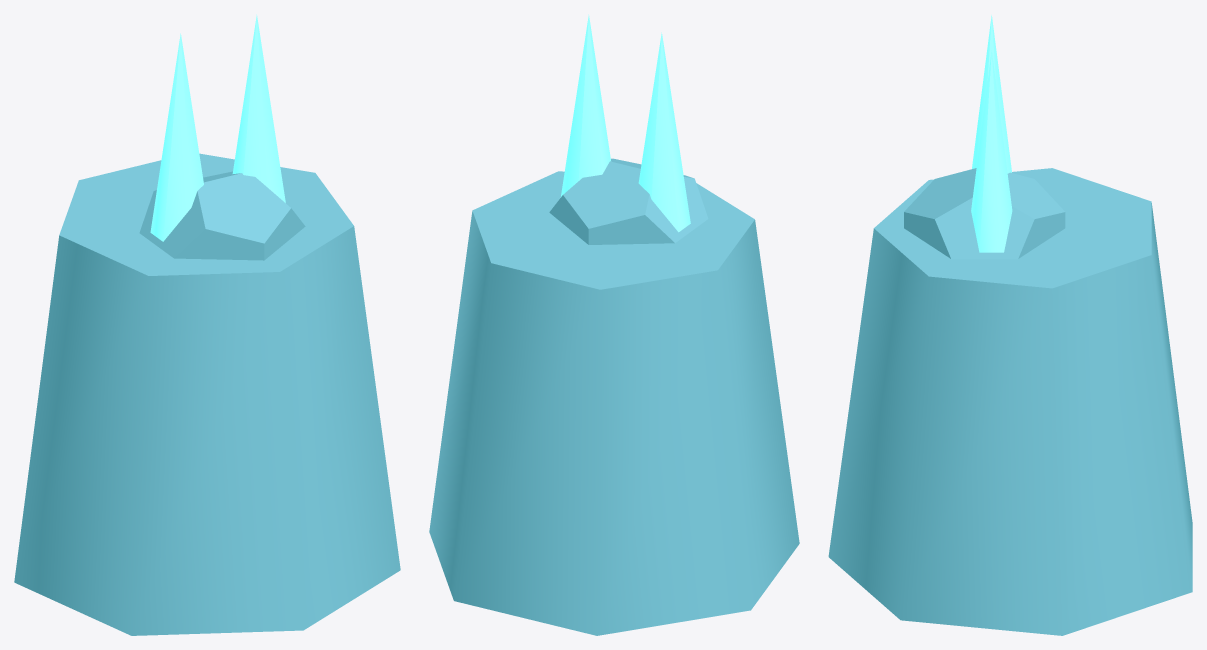
The model's file is kui_spirit.glb.
3 views of the same model, side by side, from view 1: azimuth 30°, elevation 25°; view 2: azimuth 150°, elevation 25°; view 3: azimuth 270°, elevation 25° (orthographic). The views are drawn at different scales.
Visible parts, largest first — view 1: body, head, horn_r, horn_l; view 2: body, head, horn_r, horn_l; view 3: body, head, horn_l, horn_r.
Boxes of the visible parts, x1,y1,x2,y2 form: body: [14, 153, 400, 635]; head: [139, 171, 305, 260]; horn_r: [150, 33, 203, 241]; horn_l: [232, 14, 285, 202]; body: [429, 171, 799, 635]; head: [549, 158, 708, 244]; horn_r: [638, 32, 690, 232]; horn_l: [560, 14, 610, 197]; body: [828, 168, 1192, 635]; head: [904, 168, 1065, 259]; horn_l: [971, 50, 1012, 252]; horn_r: [972, 15, 1011, 173].
Size of the model in its own units: 3.7 by 5.75 by 3.61.
